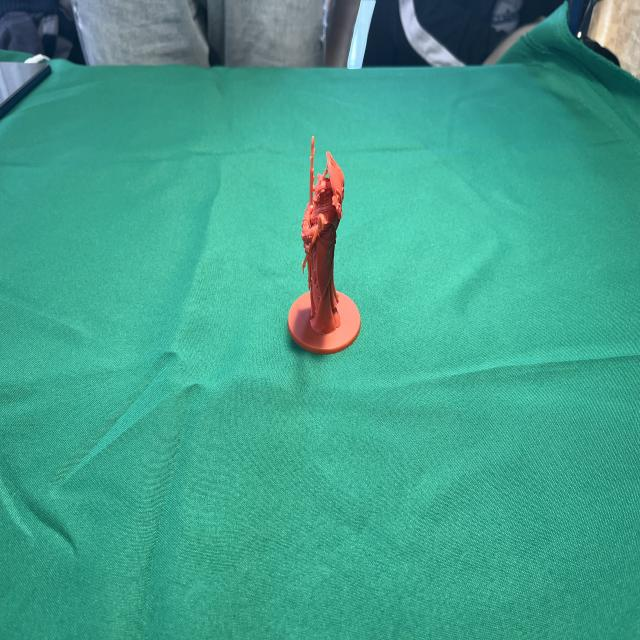amon: (283, 133, 364, 357)
